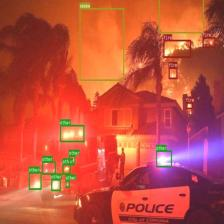fire: (163, 40, 191, 58), (202, 37, 216, 47), (168, 67, 178, 79), (185, 102, 193, 108)
smoke: (79, 7, 124, 80), (158, 0, 204, 33)
